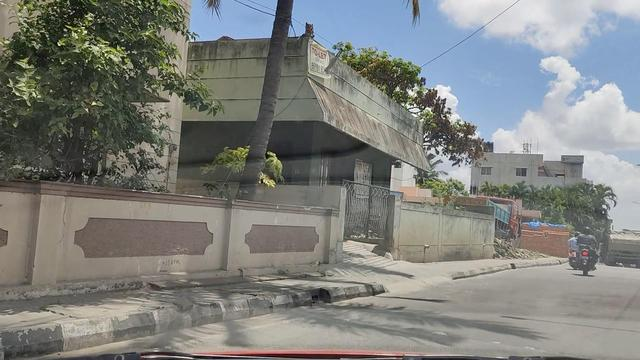RoadDamages: (487, 334, 548, 354)
